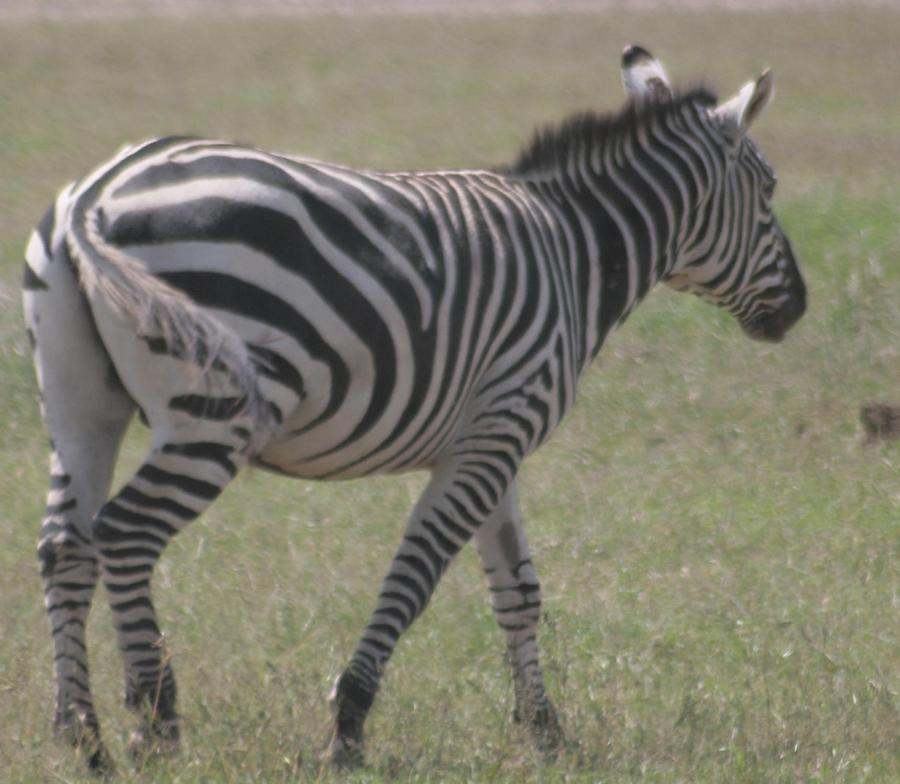zebra_plains: (145, 138, 618, 499)
